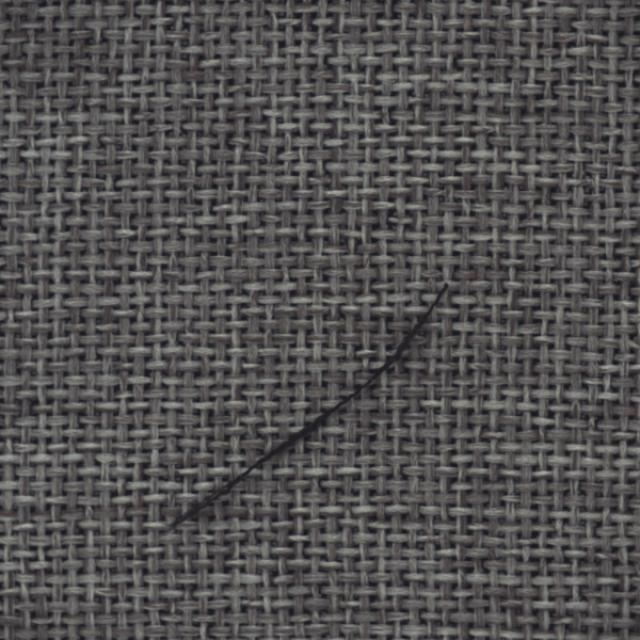Thread: (157, 280, 452, 537)
